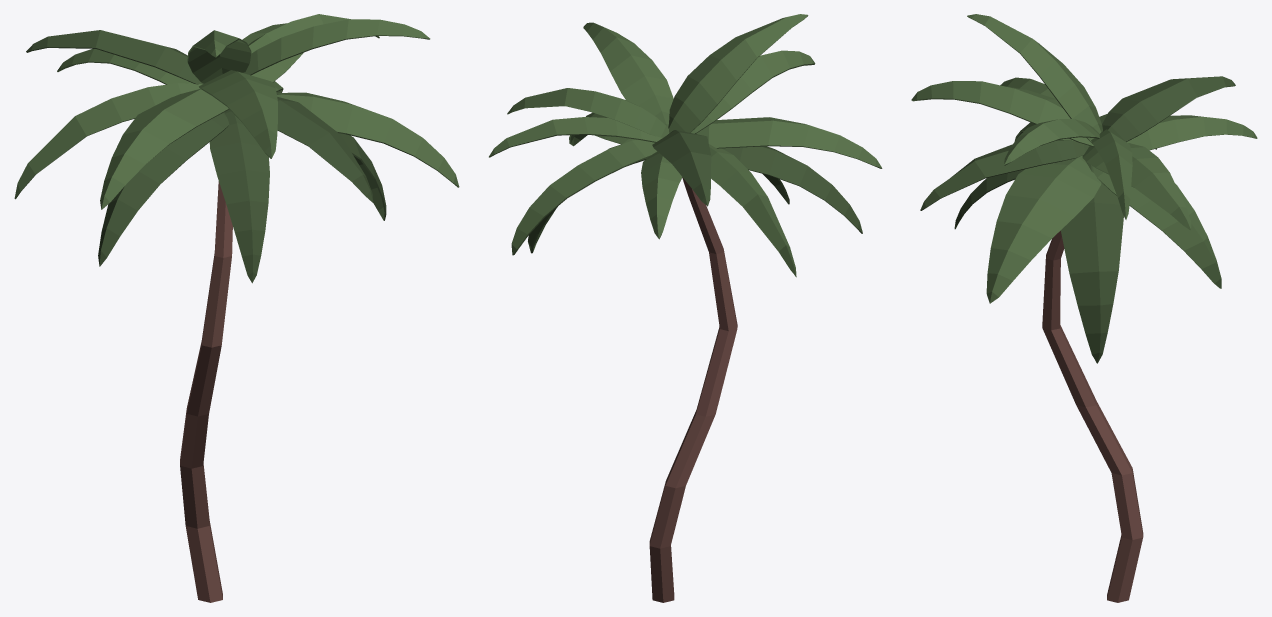
The model's file is palmtree_1.017_lev1.glb.
The picture shows the model from 3 angles, left to right: view 1: azimuth 30°, elevation 25°; view 2: azimuth 150°, elevation 25°; view 3: azimuth 270°, elevation 25°; orthographic projection. The views are drawn at different scales.
Visible parts, largest first — view 1: palmtree_1.017_lev1; view 2: palmtree_1.017_lev1; view 3: palmtree_1.017_lev1.
Part boxes in pixels (box(x1,y1,x2,y2)): palmtree_1.017_lev1: box(14, 14, 459, 602); palmtree_1.017_lev1: box(489, 14, 882, 602); palmtree_1.017_lev1: box(911, 14, 1257, 602).
Size of the model in its own units: 2.66 by 4.47 by 2.55.
